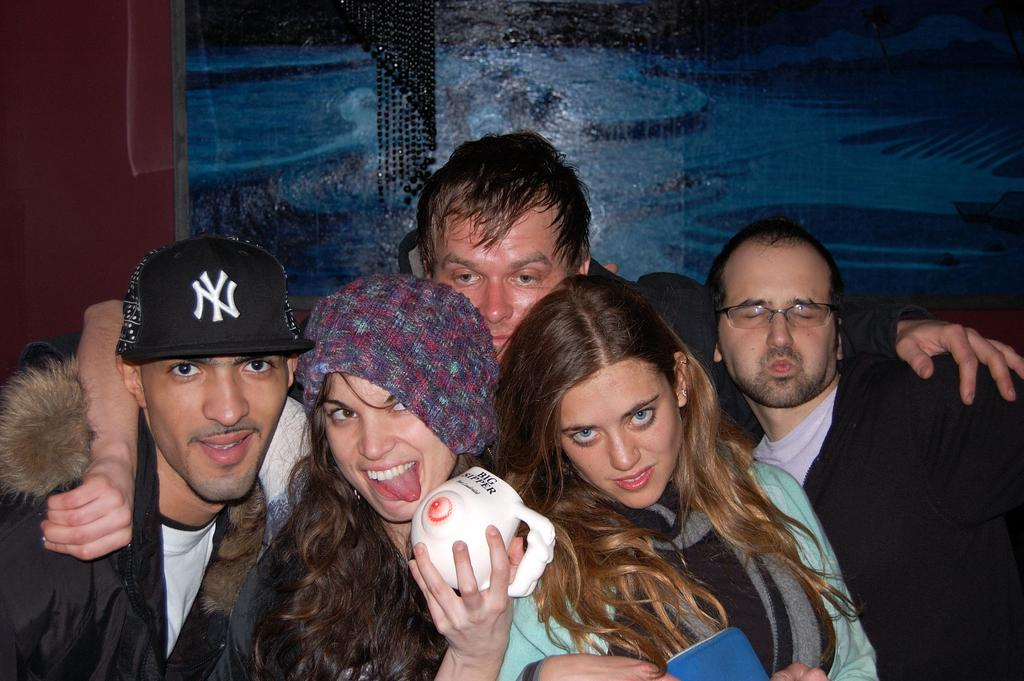Sem Máscara: (137, 355, 288, 498), (432, 213, 569, 359), (715, 249, 835, 405), (326, 374, 455, 519), (555, 367, 676, 503)
